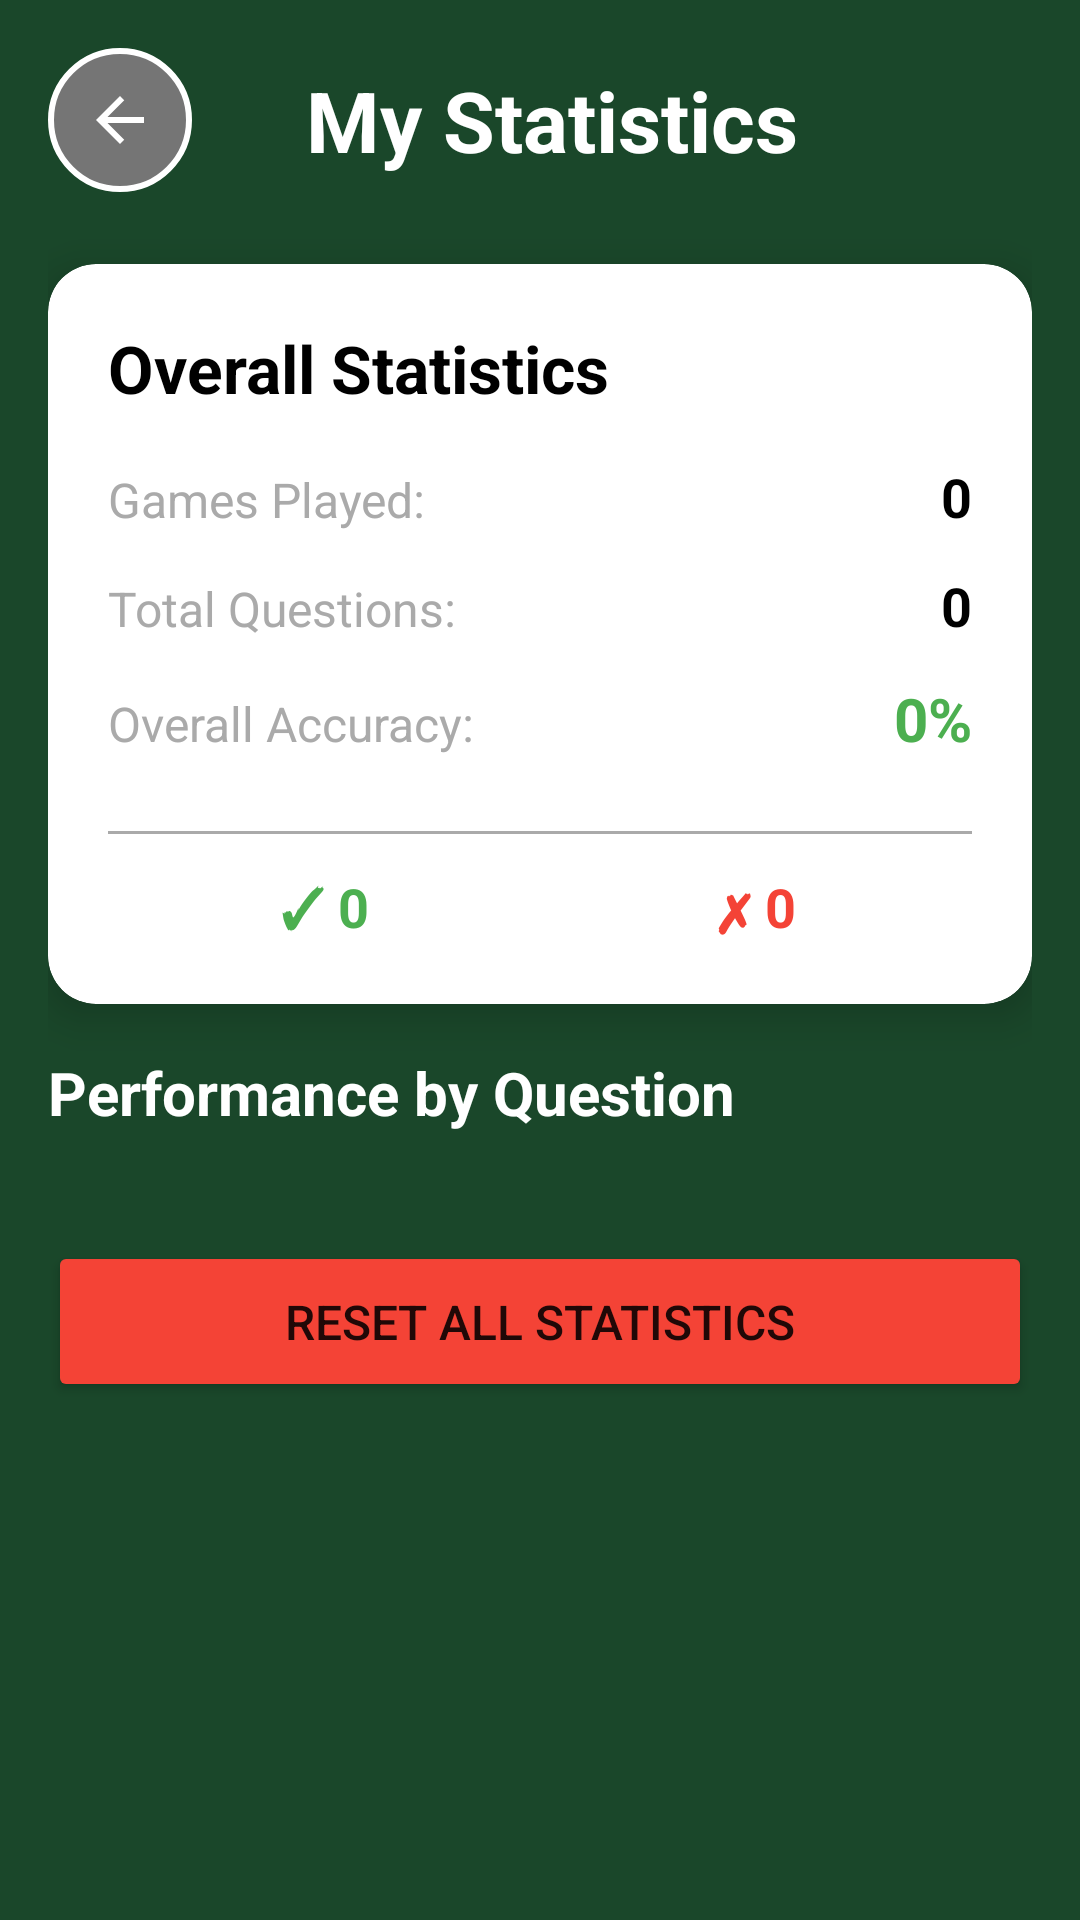

Icon click points for this 1080*1920 phone screenshot, format point (x, y):
Back: point (120, 120)
